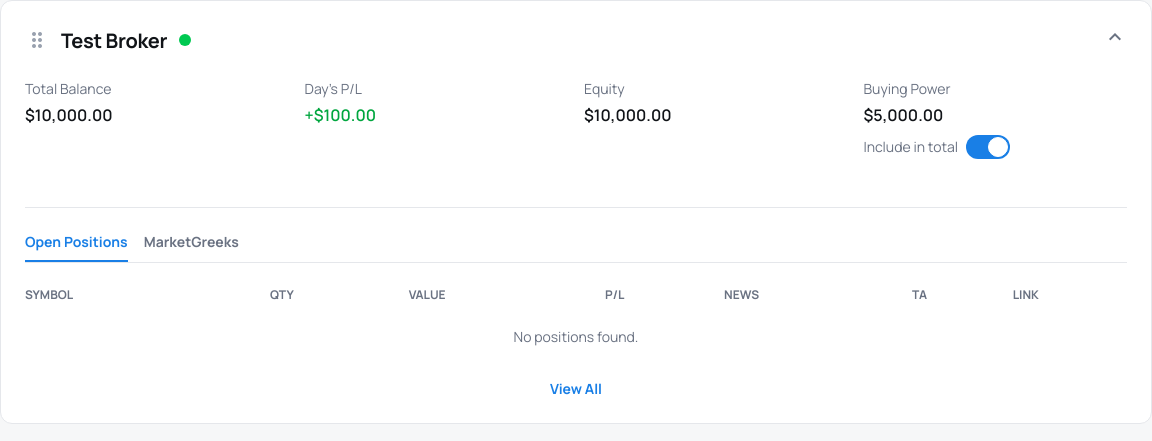
Test: MarketGreeks Feature › shows message when no positions exist
The image size is (1152, 441).
Click the button "MarketGreeks": x=191, y=247 [144,232,239,262]
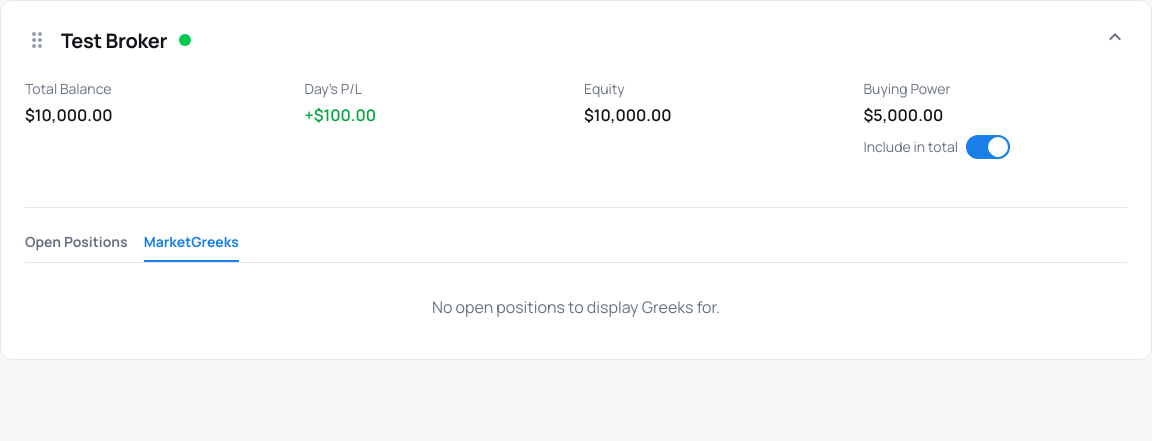
expect the text "No open positions to display Greeks for." is shown: met, box [432,296,720,318]
